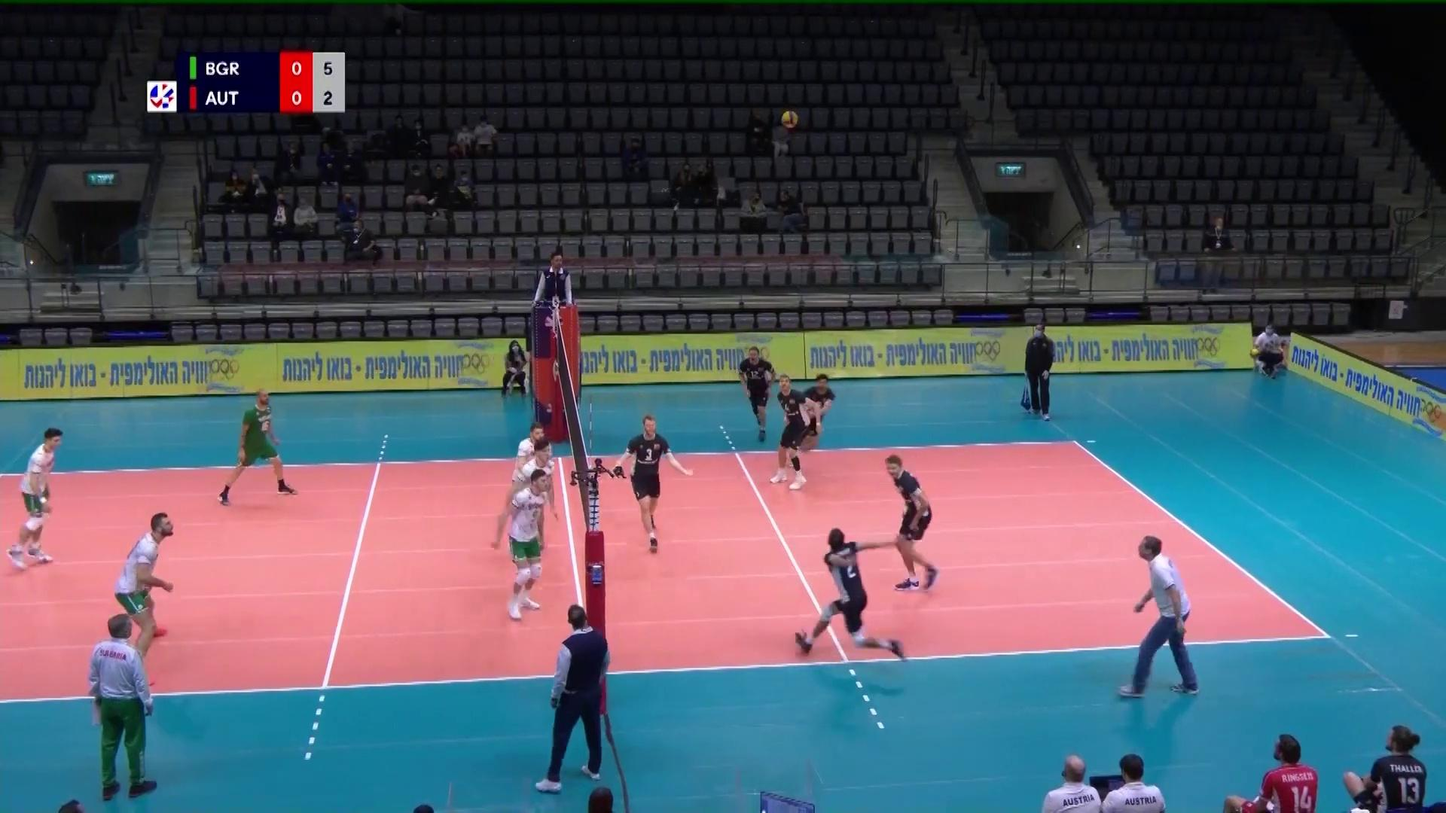ball: (781, 110, 798, 128)
